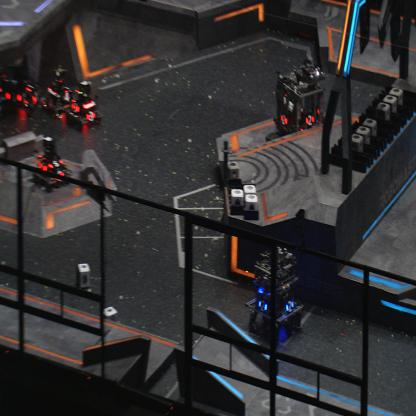car: (244, 243, 304, 344), (273, 57, 326, 140), (0, 52, 42, 116), (32, 135, 72, 191), (40, 64, 75, 119), (64, 78, 102, 128)
